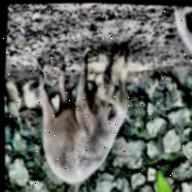boar: (28, 33, 148, 185)
